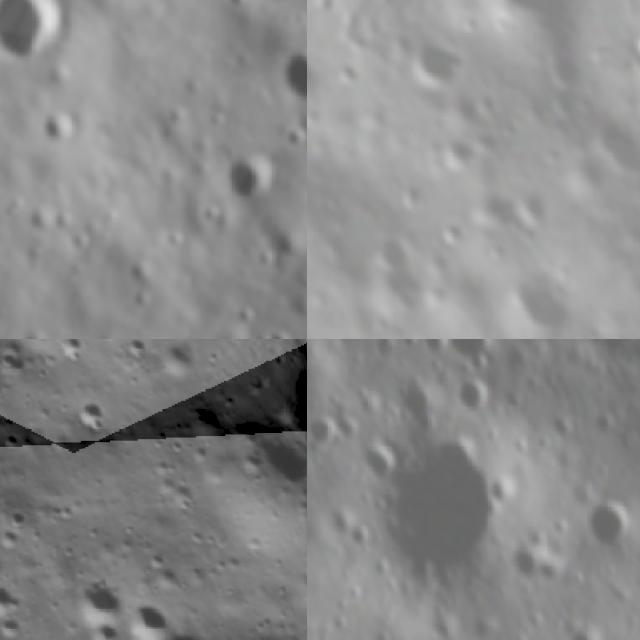crater: (371, 434, 513, 590), (499, 254, 581, 339), (0, 0, 77, 78), (61, 566, 130, 636), (399, 34, 471, 96), (217, 143, 286, 207), (64, 382, 124, 442), (587, 121, 640, 187), (110, 589, 178, 640), (149, 339, 213, 393), (577, 493, 630, 554), (30, 103, 90, 155), (391, 378, 436, 440), (366, 229, 421, 277), (501, 537, 545, 588), (276, 40, 307, 109), (307, 46, 336, 115), (511, 187, 556, 230), (151, 615, 228, 640), (542, 48, 590, 88), (45, 339, 100, 373), (439, 136, 482, 178), (353, 436, 394, 480), (436, 339, 492, 369), (449, 376, 491, 414), (0, 339, 36, 383), (329, 55, 367, 95), (434, 222, 474, 257), (552, 89, 590, 125), (307, 412, 338, 455), (545, 411, 576, 448), (396, 181, 431, 213), (587, 409, 622, 441), (113, 339, 156, 365), (339, 522, 368, 552), (364, 339, 395, 362), (562, 622, 599, 640), (628, 562, 640, 605), (395, 339, 416, 359), (632, 25, 640, 67)
